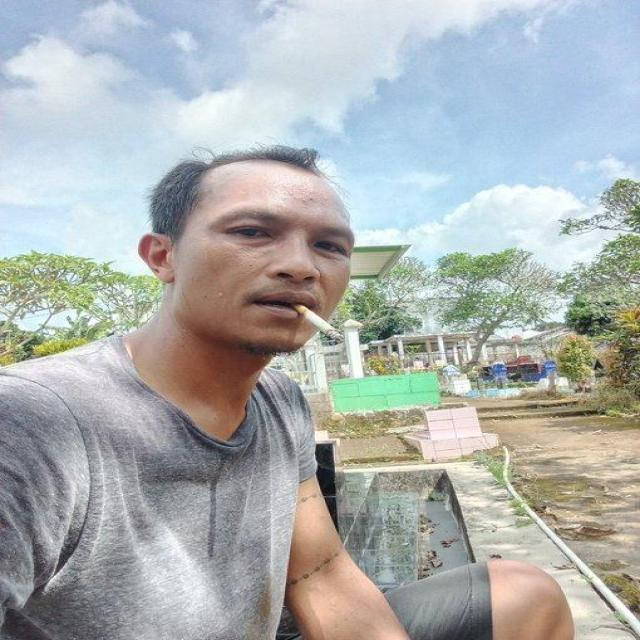rokok: (290, 302, 346, 343)
